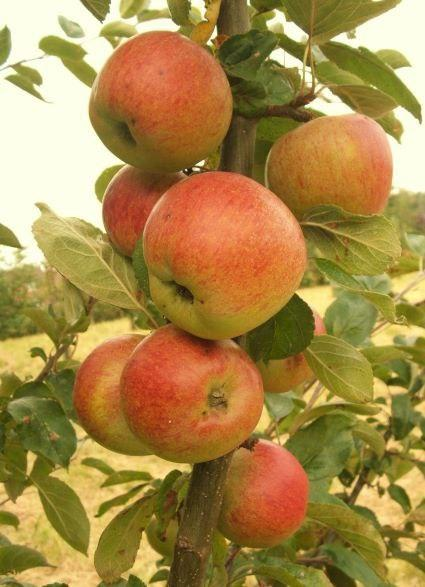Apple: (141, 172, 308, 342), (121, 319, 265, 462), (90, 31, 234, 173)
